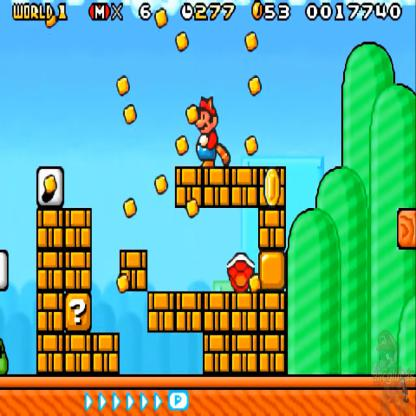Mario: (193, 94, 234, 170)
caparazon: (224, 249, 257, 294)
moneda: (249, 0, 267, 28)
